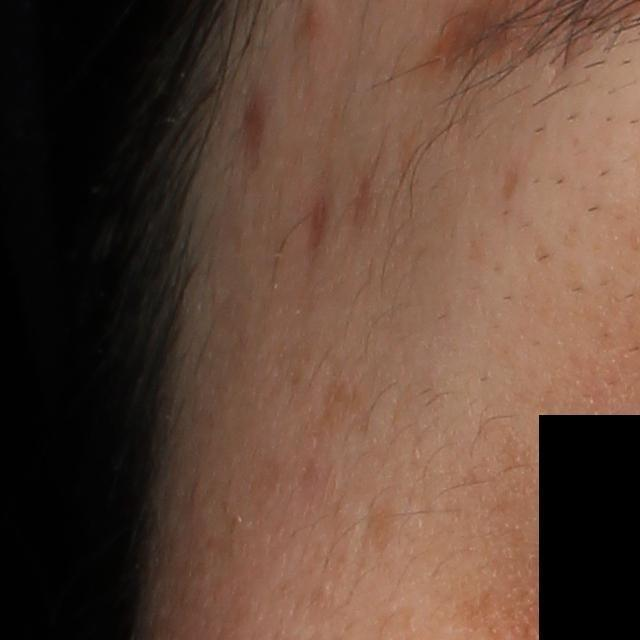melasma: (361, 496, 400, 561)
